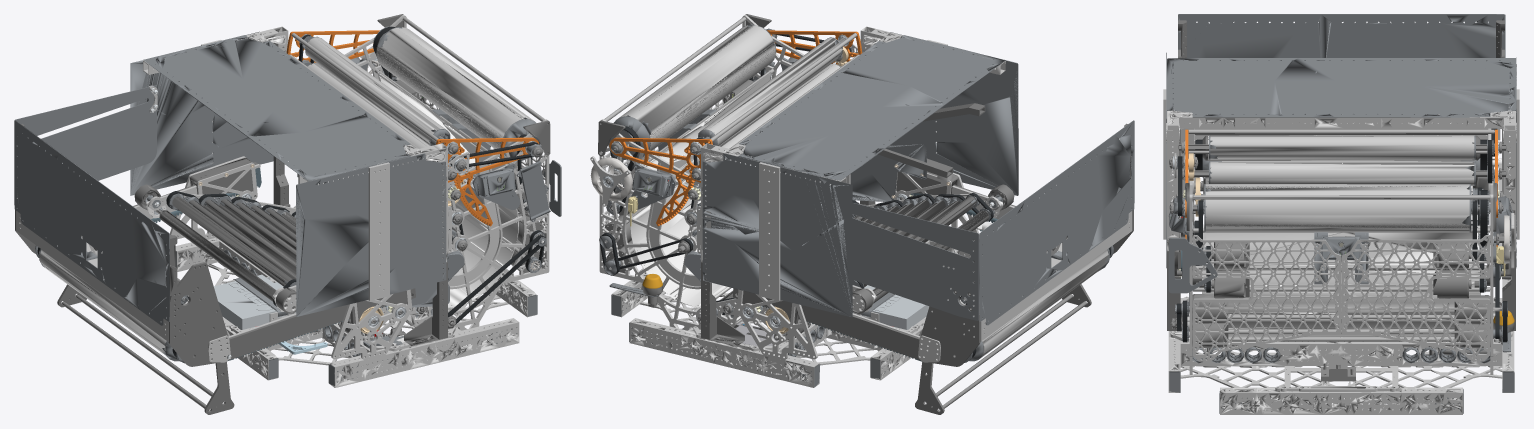
Rendered from rubble-581.glb.
3 renders of one model, left to right at view 1: azimuth 30°, elevation 25°; view 2: azimuth 150°, elevation 25°; view 3: azimuth 270°, elevation 25°, orthographic. The views are drawn at different scales.
Visible parts, largest first — view 1: frame, intake, hopper-roof-sheet, hood, flywheel; view 2: frame, intake, hopper-roof-sheet, hood, flywheel; view 3: frame, hopper-roof-sheet, intake, hood, flywheel.
Part boxes in pixels (x1=…): frame: x1=130, y1=14, x2=561, y2=387; intake: x1=14, y1=85, x2=415, y2=414; hopper-roof-sheet: x1=143, y1=35, x2=410, y2=181; hood: x1=286, y1=30, x2=539, y2=226; flywheel: x1=372, y1=26, x2=542, y2=161; frame: x1=590, y1=14, x2=1018, y2=387; intake: x1=732, y1=103, x2=1134, y2=414; hopper-roof-sheet: x1=738, y1=35, x2=1005, y2=180; hood: x1=609, y1=30, x2=862, y2=226; flywheel: x1=608, y1=24, x2=777, y2=159; frame: x1=1163, y1=52, x2=1519, y2=414; hopper-roof-sheet: x1=1167, y1=58, x2=1515, y2=117; intake: x1=1174, y1=14, x2=1511, y2=285; hood: x1=1169, y1=129, x2=1506, y2=246; flywheel: x1=1169, y1=184, x2=1503, y2=232.
Size of the model in its own units: 0.9922 by 0.5571 by 0.7461.
